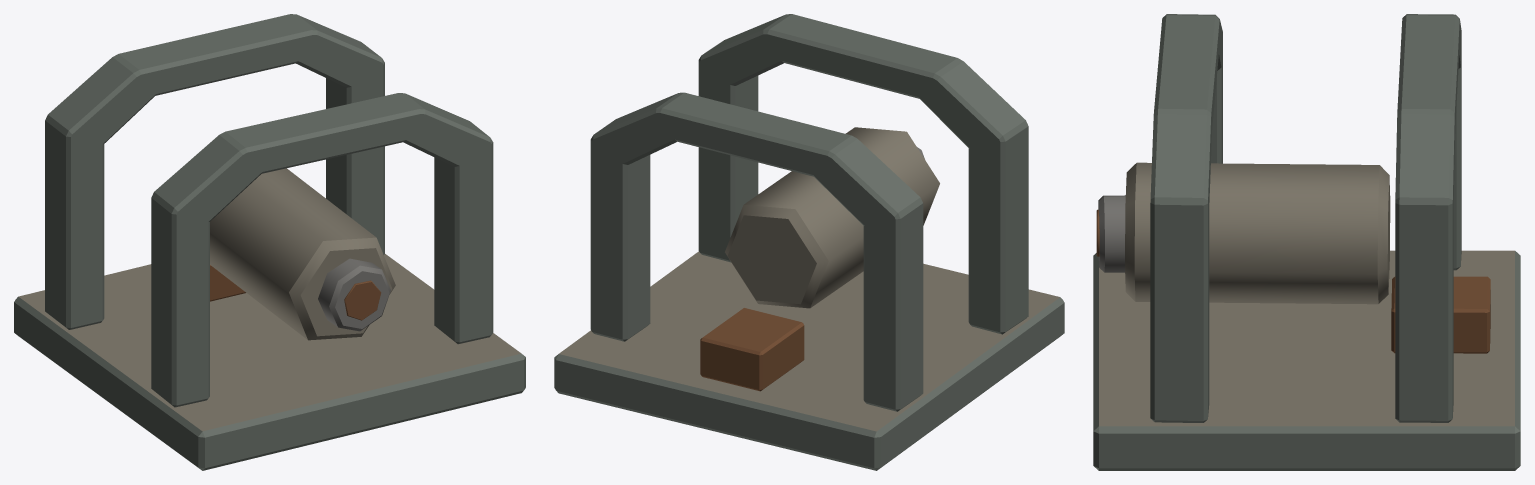
Rendered from R4X_WeaponDurabilityBooster_LOD1.fbx.
The picture shows the model from 3 angles, left to right: view 1: azimuth 30°, elevation 25°; view 2: azimuth 150°, elevation 25°; view 3: azimuth 270°, elevation 25°; orthographic projection. The views are drawn at different scales.
Parts seen in each view (by area): view 1: R4X_WeaponDurabilityBooster_LOD1; view 2: R4X_WeaponDurabilityBooster_LOD1; view 3: R4X_WeaponDurabilityBooster_LOD1.
Part boxes in pixels (x1,y1,x2,y2): R4X_WeaponDurabilityBooster_LOD1: [14, 14, 525, 470]; R4X_WeaponDurabilityBooster_LOD1: [554, 14, 1064, 470]; R4X_WeaponDurabilityBooster_LOD1: [1093, 14, 1520, 470].
Size of the model in its own units: 0.52 by 0.43 by 0.52.
